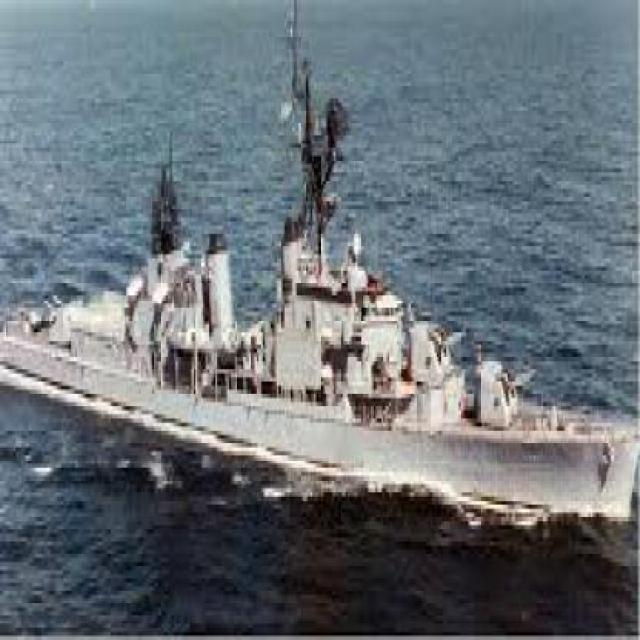warship2: (1, 71, 639, 551)
